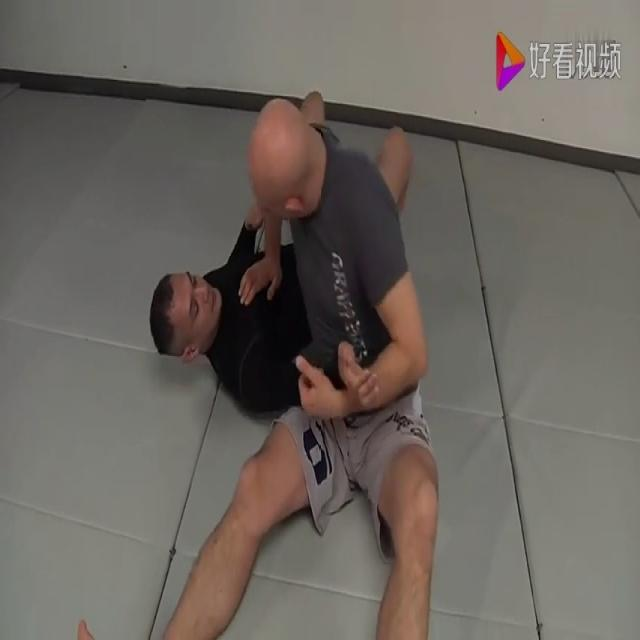fight: (126, 69, 453, 639)
